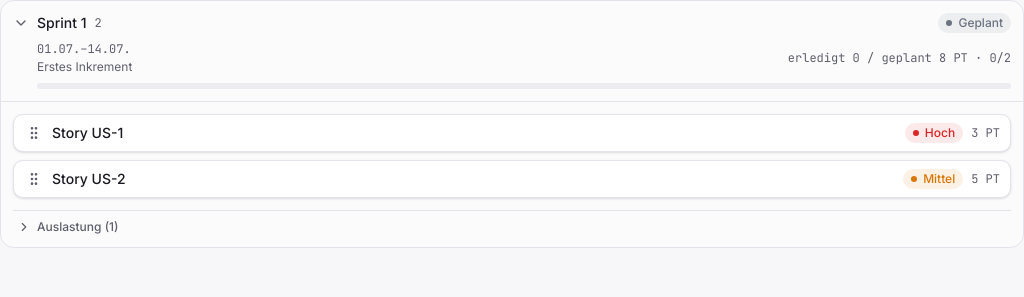
Scenario: SprintSection (TASK-059) › reveals per-person workload behind its own toggle
Click the button with test id "sprint-load-toggle-sp1" at {"x": 73, "y": 226}, box [13,219,1011,235]
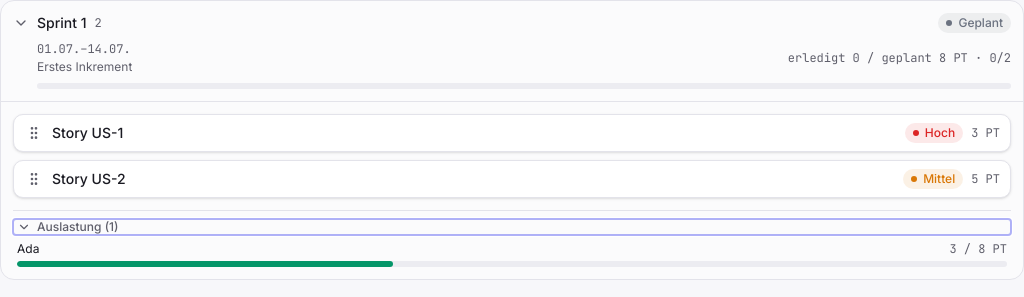
Expected: the element with test id "sprint-load-per-1" shows "Ada", [17,241,39,256]
